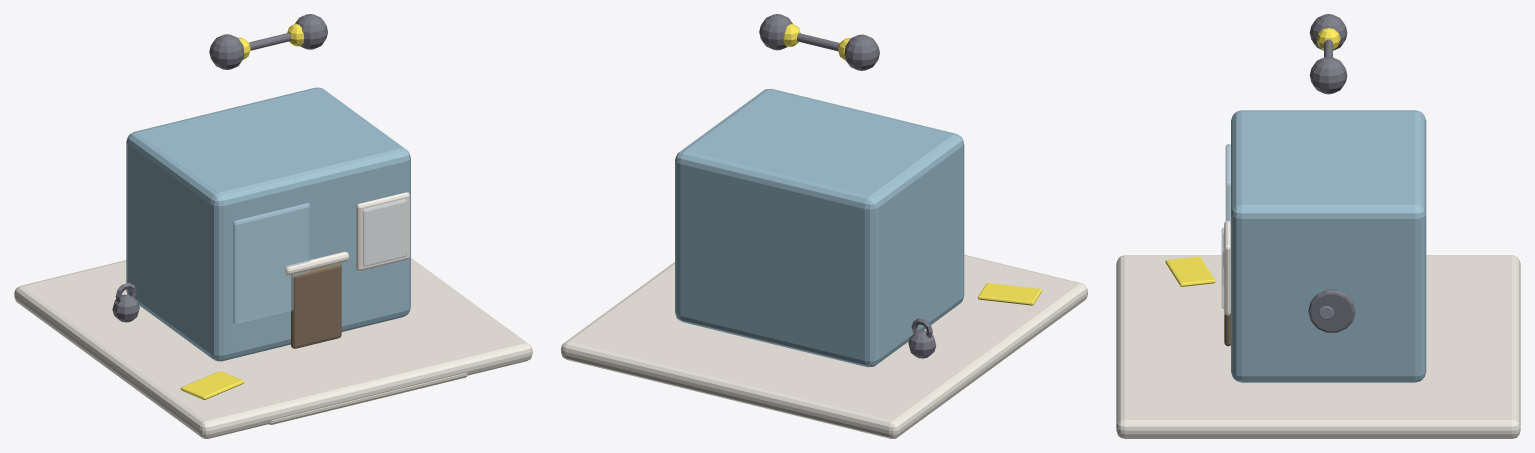
File: gym.glb
3 renders of one model, left to right at view 1: azimuth 30°, elevation 25°; view 2: azimuth 150°, elevation 25°; view 3: azimuth 270°, elevation 25°, orthographic. The views are drawn at different scales.
Parts seen in each view (by area): view 1: QBase, QGymGlass; view 2: QBase; view 3: QBase, QGymGlass.
Boxes of the visible parts, bbox=[...] form: QBase: bbox=[14, 14, 532, 438]; QGymGlass: bbox=[232, 199, 406, 324]; QBase: bbox=[561, 14, 1087, 438]; QBase: bbox=[1116, 14, 1520, 438]; QGymGlass: bbox=[1221, 144, 1230, 308].
Size of the model in its own units: 6 by 5.23 by 6.
2 materials, 2 textured.
